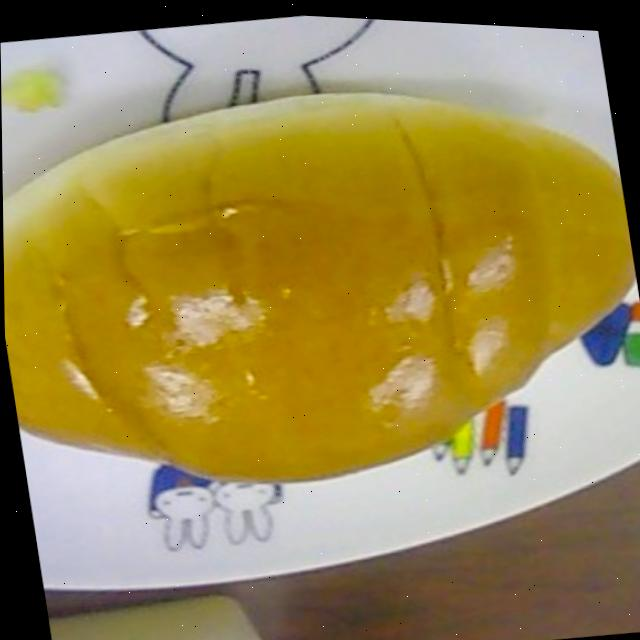面包点心: (0, 20, 640, 541)
